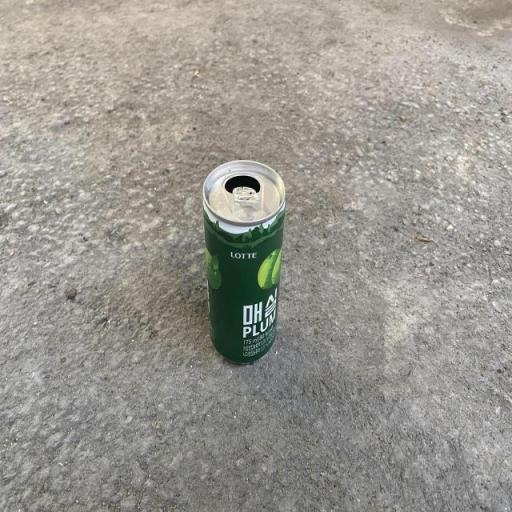metal: (194, 157, 292, 382)
